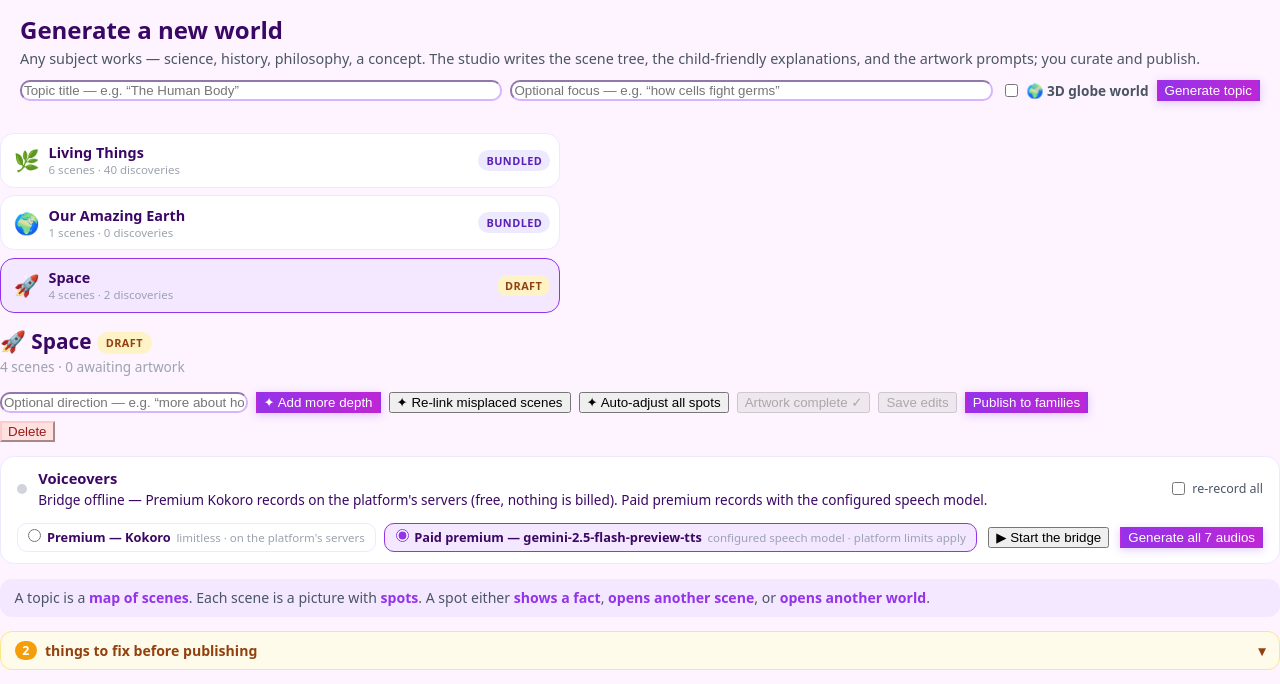
Test: WikidoStudio — plain-language editor › re-parenting scenes › ✦ Re-link reports when every scene is already where it belongs
Click the button "✦ Re-link misplaced scenes": (480, 402) [388,392,570,413]
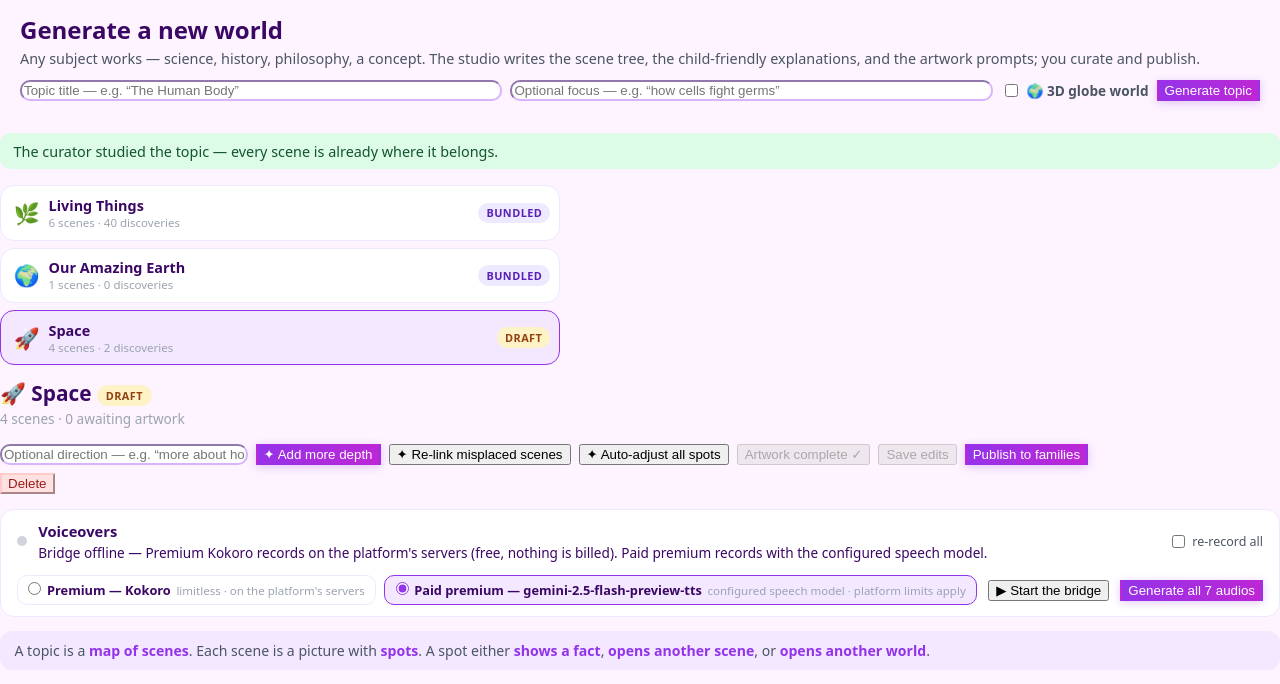
Expected: the text "every scene is already where it belongs" is shown, [14,142,498,161]
